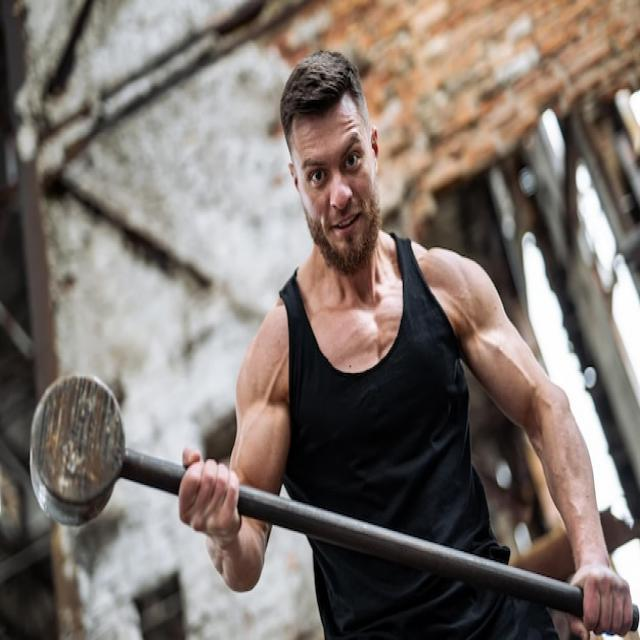hammer: (20, 362, 640, 634)
